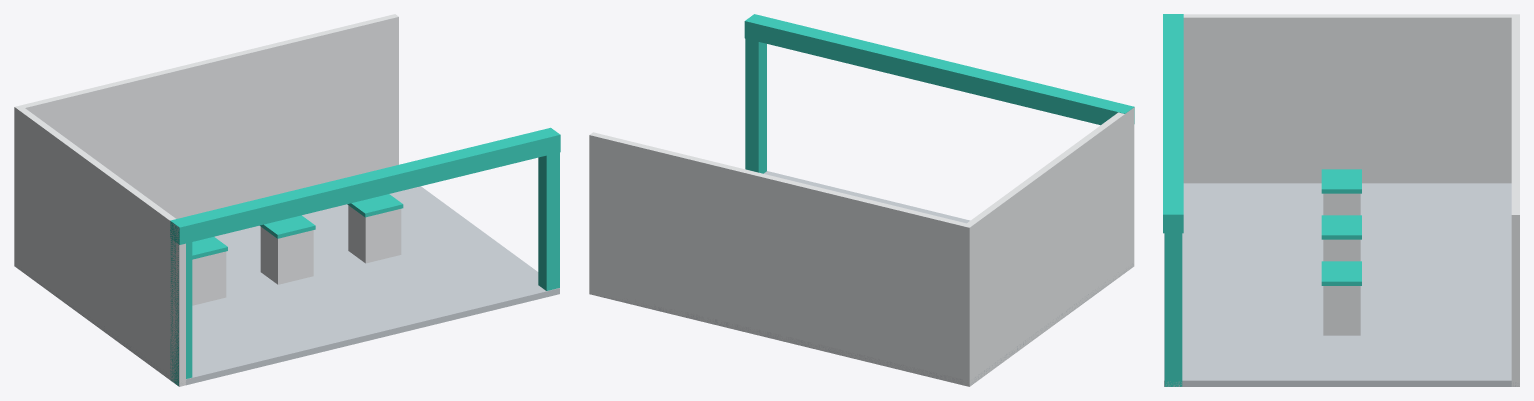
The picture shows the model from 3 angles, left to right: view 1: azimuth 30°, elevation 25°; view 2: azimuth 150°, elevation 25°; view 3: azimuth 270°, elevation 25°; orthographic projection. The views are drawn at different scales.
Visible parts, largest first — view 1: Exhibition Booth Concept; view 2: Exhibition Booth Concept; view 3: Exhibition Booth Concept.
Boxes of the visible parts, left/top/right/bottom form: Exhibition Booth Concept: left=14, top=14, right=560, bottom=386; Exhibition Booth Concept: left=589, top=14, right=1134, bottom=386; Exhibition Booth Concept: left=1163, top=14, right=1519, bottom=386.
Size of the model in its own units: 8 by 3.2 by 6.02.
